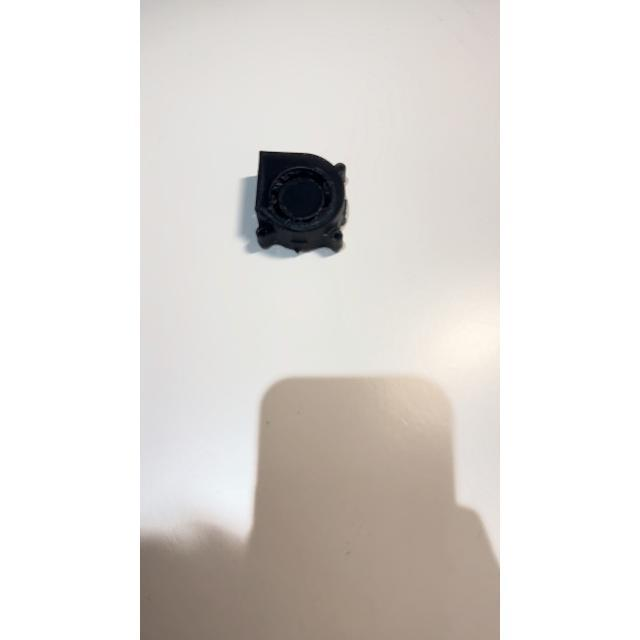Pieza3: (249, 141, 357, 267)
